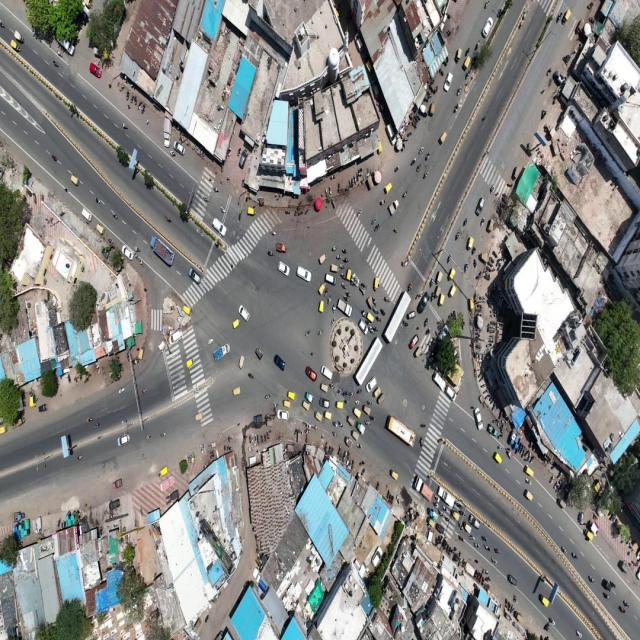3W: (251, 347, 264, 362), (524, 487, 537, 501), (427, 336, 439, 351), (539, 594, 550, 610), (494, 450, 504, 464), (443, 309, 452, 324), (299, 402, 310, 414), (70, 174, 79, 188), (313, 410, 322, 424), (373, 353, 381, 368), (238, 356, 246, 371), (319, 252, 328, 265), (373, 388, 381, 402), (97, 220, 104, 236), (482, 220, 489, 236), (584, 529, 594, 540), (242, 404, 251, 416), (390, 470, 399, 482), (479, 311, 486, 326), (186, 357, 194, 370), (183, 304, 191, 316), (455, 312, 461, 328), (440, 129, 447, 142), (375, 275, 380, 293), (347, 267, 352, 285), (336, 400, 344, 411), (385, 180, 391, 194), (160, 466, 168, 476), (232, 319, 240, 329), (526, 466, 534, 476), (318, 298, 324, 311), (506, 181, 512, 194), (332, 260, 338, 273), (203, 194, 210, 205), (492, 264, 498, 276), (317, 283, 325, 292), (455, 281, 459, 299), (430, 102, 435, 116), (415, 370, 425, 377), (138, 348, 144, 359), (248, 207, 255, 216), (109, 240, 116, 249), (232, 388, 242, 394), (459, 299, 465, 309), (441, 292, 444, 308)
Bus: (354, 334, 384, 387), (383, 291, 411, 342), (387, 414, 418, 448)
Cars: (432, 365, 448, 391), (295, 263, 313, 283), (445, 379, 458, 404), (274, 354, 290, 374), (521, 125, 534, 149), (168, 328, 184, 346), (187, 268, 202, 286), (306, 363, 320, 381), (212, 218, 226, 235), (122, 244, 134, 263), (89, 62, 102, 78), (366, 376, 378, 392), (324, 271, 336, 287), (322, 362, 334, 378), (173, 140, 186, 154), (493, 191, 502, 211), (239, 306, 250, 322), (359, 320, 369, 336), (508, 573, 520, 586), (278, 263, 290, 275), (320, 395, 329, 410), (461, 238, 468, 257), (109, 500, 122, 510), (118, 435, 130, 445), (278, 410, 289, 420)
LCV: (413, 477, 435, 504), (210, 342, 230, 365), (437, 484, 455, 508), (336, 296, 353, 316), (389, 194, 399, 215), (432, 313, 443, 330), (409, 334, 418, 350), (112, 479, 124, 490), (427, 318, 435, 324)
M2W: (393, 162, 402, 175), (401, 188, 410, 200), (416, 146, 426, 156), (142, 432, 153, 441), (542, 112, 548, 128), (602, 592, 610, 604), (361, 304, 367, 319), (116, 386, 126, 395), (469, 225, 477, 236), (329, 315, 336, 327), (339, 281, 348, 290), (111, 212, 120, 221), (424, 150, 429, 166), (137, 258, 144, 269), (53, 58, 60, 69), (86, 415, 94, 424), (356, 209, 364, 218), (473, 542, 481, 551), (330, 420, 338, 429), (414, 163, 422, 172), (491, 555, 497, 567), (93, 196, 101, 205), (165, 214, 173, 223), (50, 155, 58, 164), (460, 266, 466, 278), (572, 550, 578, 562), (207, 336, 214, 346), (418, 437, 425, 447), (330, 302, 337, 312), (338, 420, 345, 430), (335, 253, 342, 263), (481, 533, 488, 543), (317, 328, 323, 339), (268, 247, 274, 258), (506, 448, 512, 459), (363, 420, 374, 426), (588, 573, 594, 584), (370, 413, 375, 426), (339, 263, 347, 271), (356, 441, 364, 449), (422, 172, 430, 180), (370, 216, 378, 224), (560, 546, 568, 554), (342, 255, 349, 264), (409, 159, 418, 166), (348, 389, 355, 398), (469, 248, 476, 257), (494, 545, 501, 554), (340, 272, 346, 282), (220, 204, 226, 214), (135, 242, 141, 252), (526, 477, 532, 487), (470, 534, 476, 544), (332, 242, 338, 252), (338, 384, 343, 396), (212, 186, 220, 193), (492, 218, 500, 225), (326, 296, 333, 304), (420, 421, 427, 429), (329, 381, 336, 389), (484, 542, 489, 553), (274, 402, 280, 411), (345, 288, 351, 297), (487, 235, 493, 244), (480, 273, 486, 282), (481, 256, 486, 266), (357, 402, 362, 412), (160, 431, 167, 438), (512, 134, 519, 141), (270, 229, 277, 236), (367, 396, 373, 404), (342, 389, 348, 397), (489, 249, 495, 257), (342, 247, 347, 256), (76, 454, 82, 461), (141, 390, 148, 396), (372, 298, 378, 305), (248, 372, 255, 378), (356, 388, 362, 395), (121, 122, 128, 128), (331, 430, 336, 438), (513, 132, 516, 145), (264, 393, 270, 399), (384, 296, 389, 303), (372, 325, 377, 332), (94, 424, 100, 429), (377, 316, 382, 322), (370, 325, 373, 334)
MAV: (150, 233, 176, 267)
